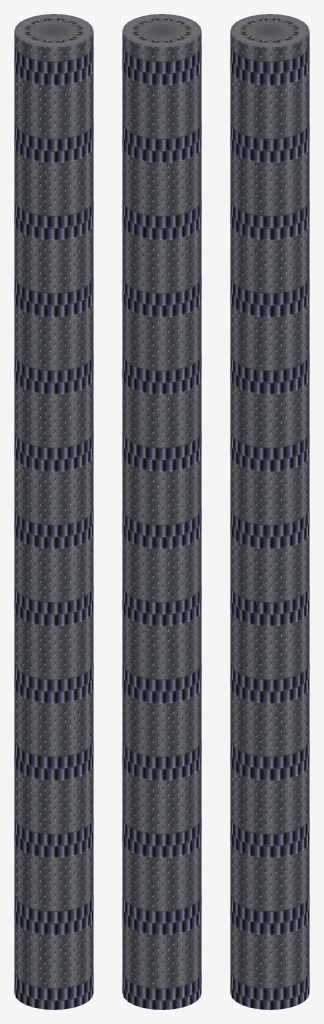
File: koopa_course-rotary_bridge.glb
The picture shows the model from 3 angles, left to right: view 1: azimuth 90°, elevation 25°; view 2: azimuth 150°, elevation 25°; view 3: azimuth 270°, elevation 25°; orthographic projection.
Parts seen in each view (by area): view 1: rotary_bridge; view 2: rotary_bridge; view 3: rotary_bridge.
Boxes of the visible parts, x1,y1,x2,y2 form: rotary_bridge: [14, 14, 93, 1009]; rotary_bridge: [122, 14, 201, 1009]; rotary_bridge: [230, 14, 309, 1009].
Size of the model in its own units: 10 by 134 by 10.
Materials: 1 (1 with a texture image).
